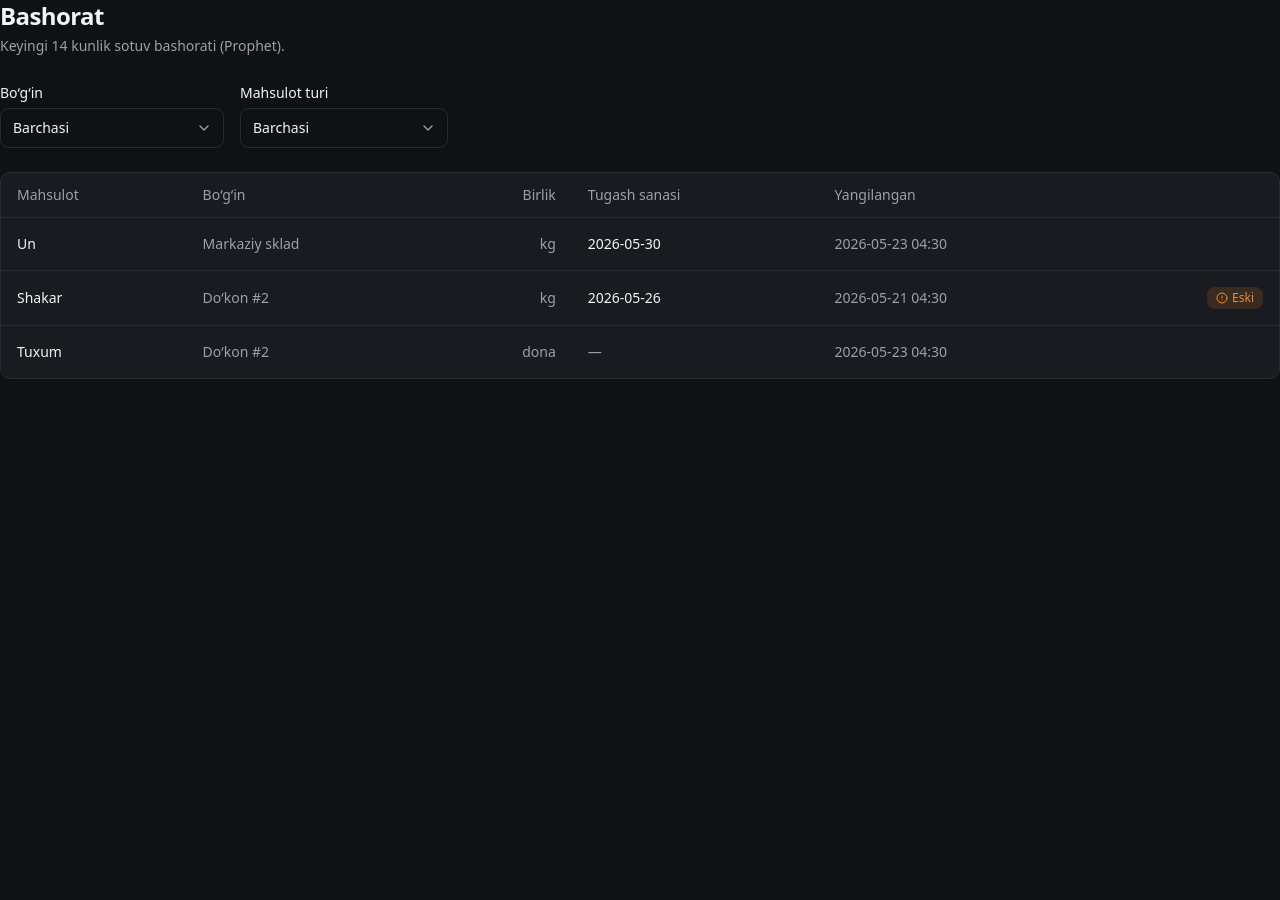
Test case: ForecastsPage › opens the detail dialog when a row is clicked
Click the button with test id "forecast-row" that starts with "Markaziy sklad": (640, 244) x1=1 y1=217 x2=1279 y2=270
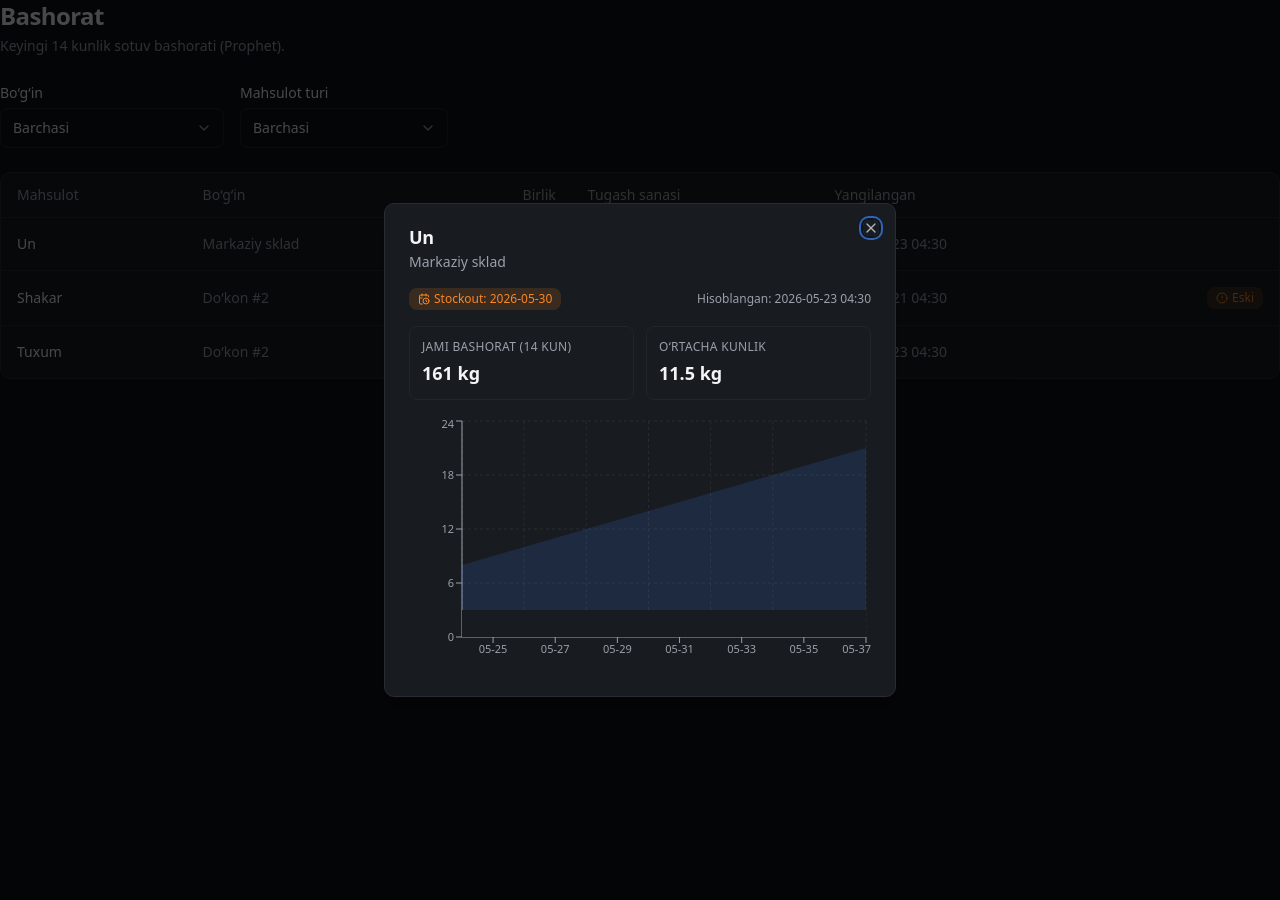
Expected: the text "Un" is shown, x1=1 y1=217 x2=187 y2=270
Expected: the element with test id "forecast-detail-chart" is shown, x1=409 y1=416 x2=871 y2=672
